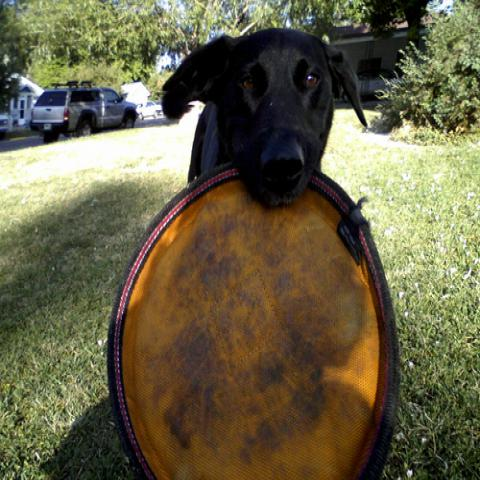car: (136, 102, 162, 122), (0, 115, 8, 139)
truck: (30, 80, 138, 143)
